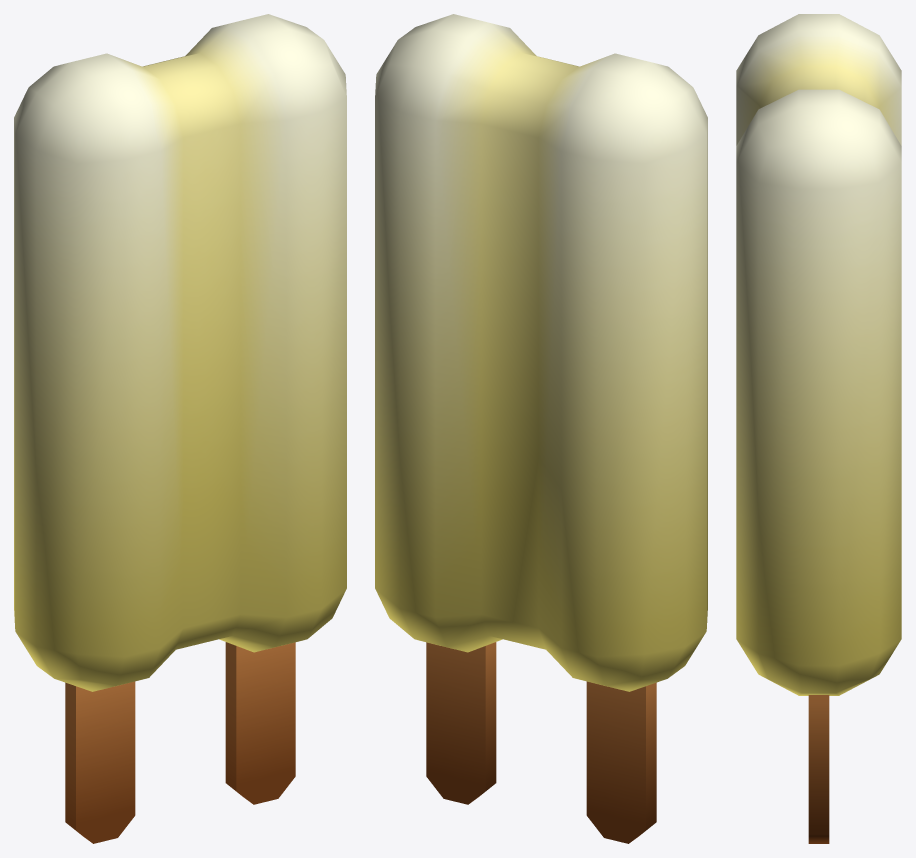
File: m_DoublePopsicle02.fbx
The picture shows the model from 3 angles, left to right: view 1: azimuth 30°, elevation 25°; view 2: azimuth 150°, elevation 25°; view 3: azimuth 270°, elevation 25°; orthographic projection. The views are drawn at different scales.
Parts seen in each view (by area): view 1: m_DoublePopsicle02_L, m_DoublePopsicle02_R; view 2: m_DoublePopsicle02_L, m_DoublePopsicle02_R; view 3: m_DoublePopsicle02_R, m_DoublePopsicle02_L.
Part boxes in pixels (x1,y1,x2,y2): m_DoublePopsicle02_L: (14,53,211,843); m_DoublePopsicle02_R: (159,14,346,804); m_DoublePopsicle02_L: (510,53,707,843); m_DoublePopsicle02_R: (375,14,562,804); m_DoublePopsicle02_R: (736,80,901,843); m_DoublePopsicle02_L: (736,14,901,145).
Bounding box in the file's own units: 9.64 × 22.99 × 4.64.
